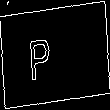P_N: (43, 28, 67, 82)
